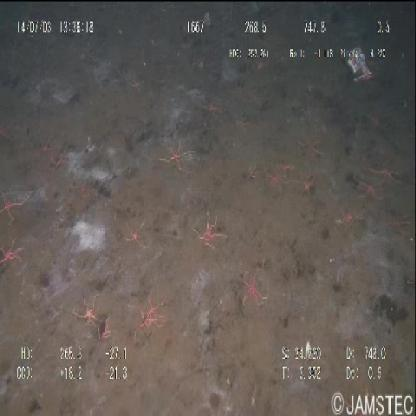Rác: (344, 47, 374, 87)
